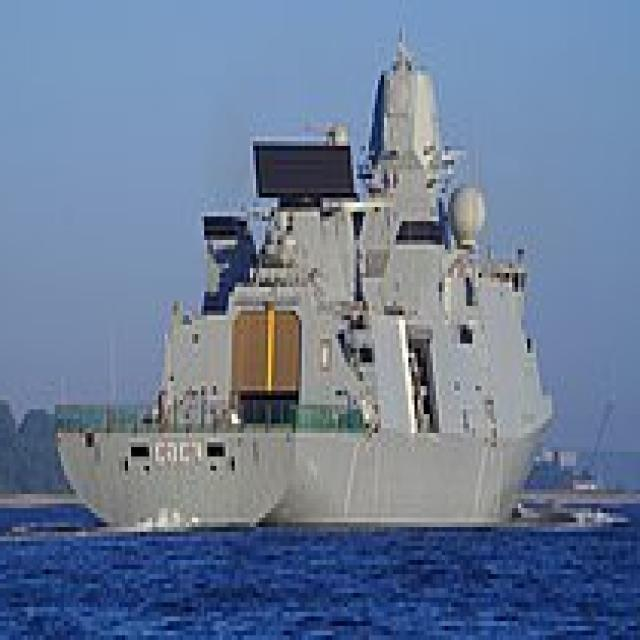Warship: (55, 19, 561, 527)
